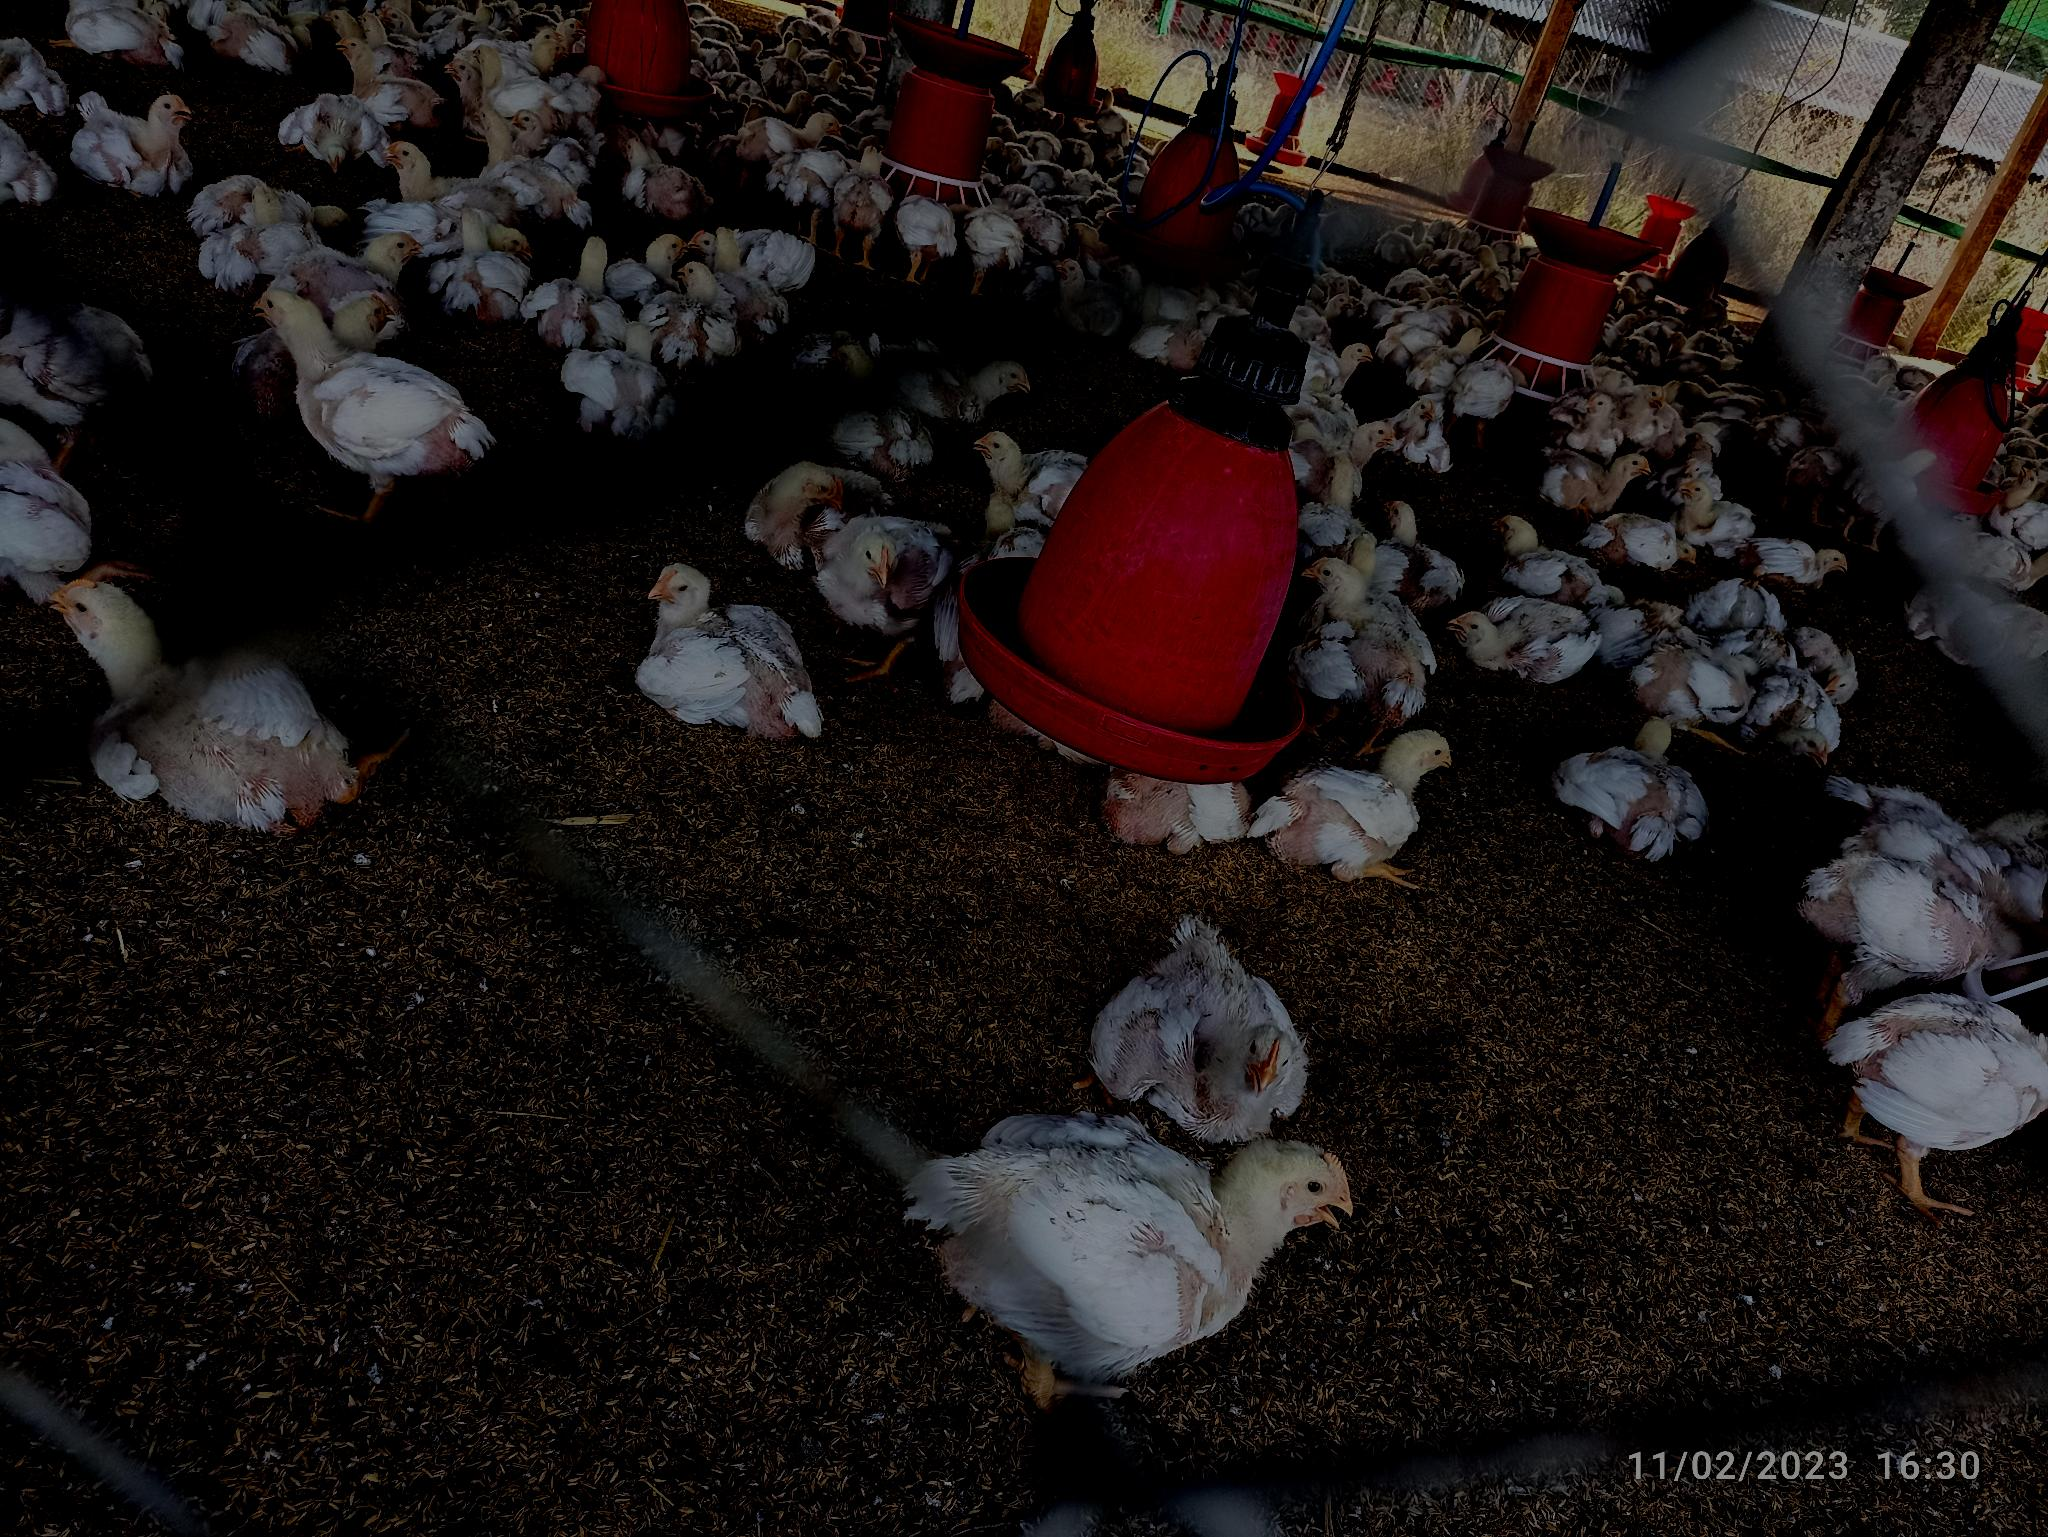Pollos: (944, 1114, 1364, 1367), (47, 563, 378, 831), (1076, 914, 1323, 1132), (244, 283, 489, 496), (1264, 722, 1465, 894), (633, 568, 828, 744), (1553, 715, 1707, 857), (1302, 557, 1436, 720), (834, 509, 949, 644), (1451, 589, 1601, 688), (382, 139, 523, 232), (558, 342, 689, 441), (68, 89, 207, 181), (675, 253, 797, 342), (1528, 447, 1659, 513), (1748, 673, 1841, 764), (1748, 531, 1853, 605), (1373, 391, 1452, 470), (734, 110, 846, 158)
